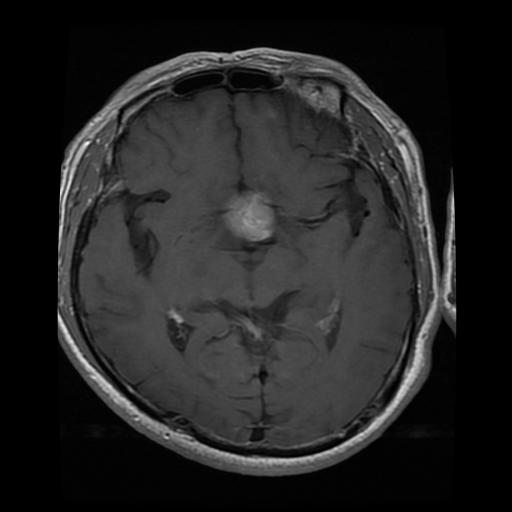Pituirity_tumour: (221, 187, 276, 241)
